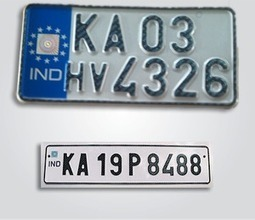number_plate: (17, 2, 239, 108), (41, 142, 212, 189)
